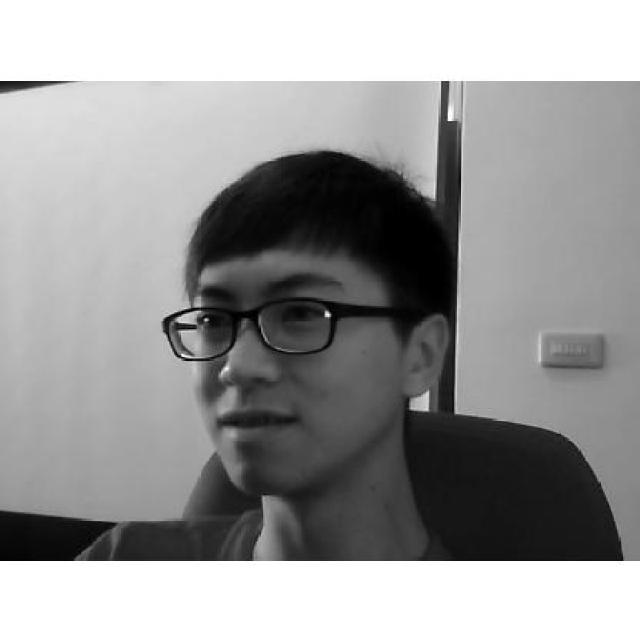attentif: (162, 148, 448, 492)
